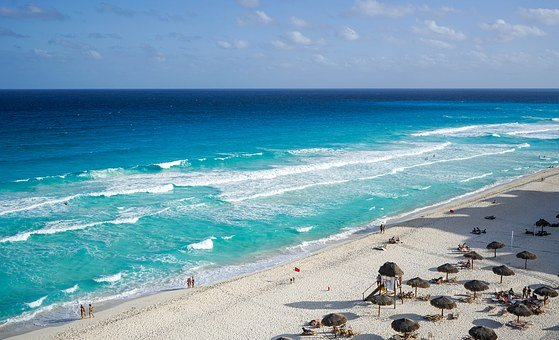beach: (7, 92, 559, 340)
sky: (2, 1, 557, 87)
